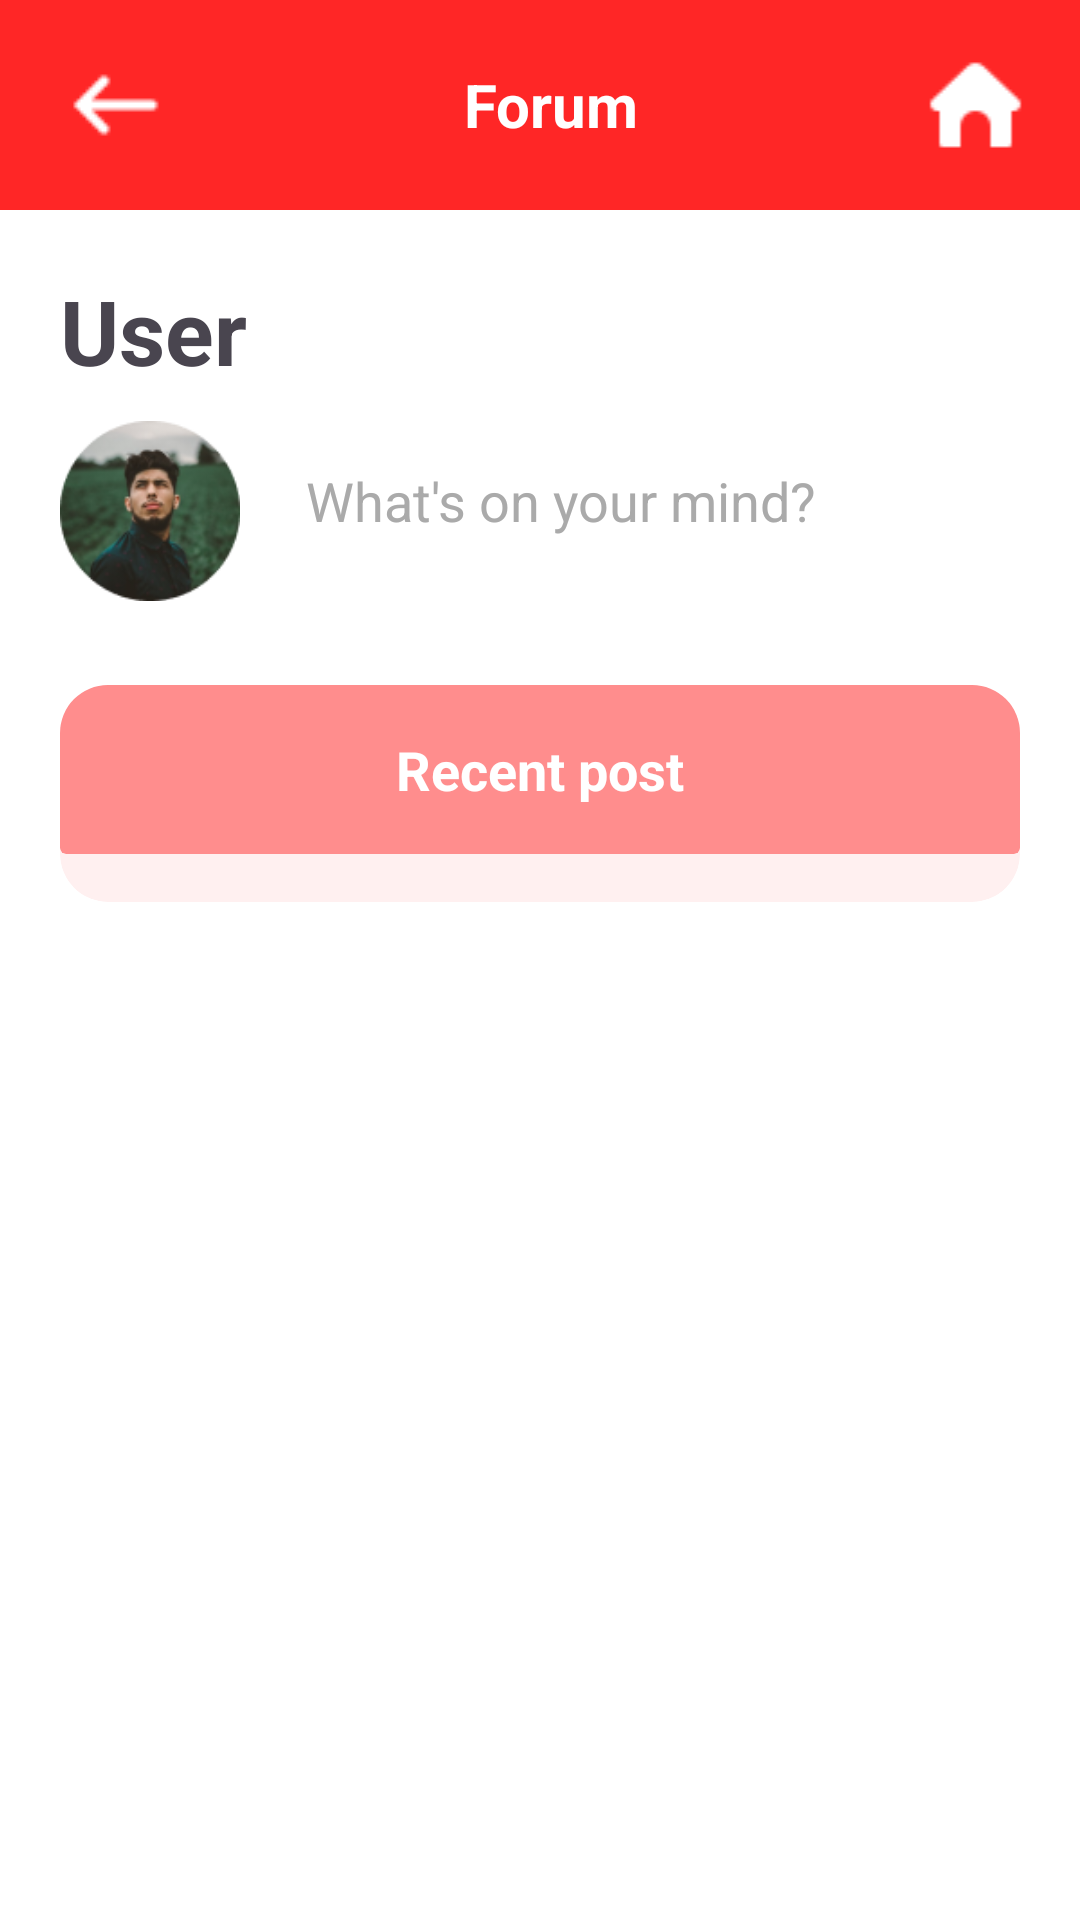

Icons on this 1080px x 1920px Android screen, each with the point to tap as point (x, y):
backward: point (116, 105)
home: point (975, 105)
